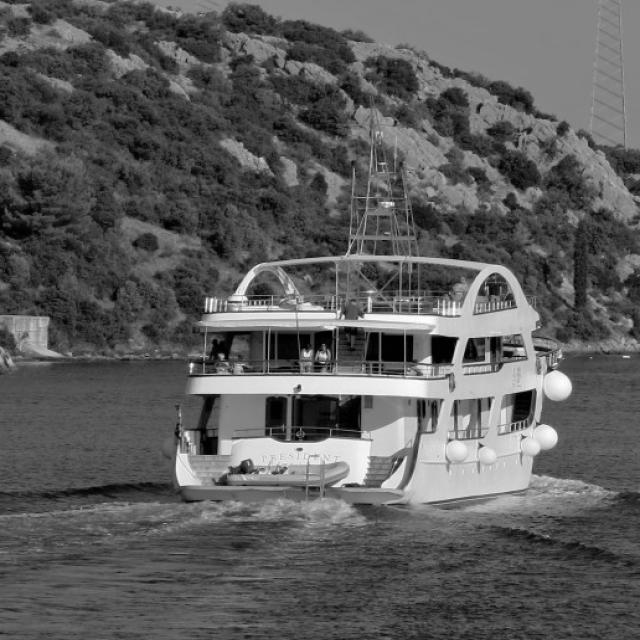cruises: (166, 251, 562, 515)
